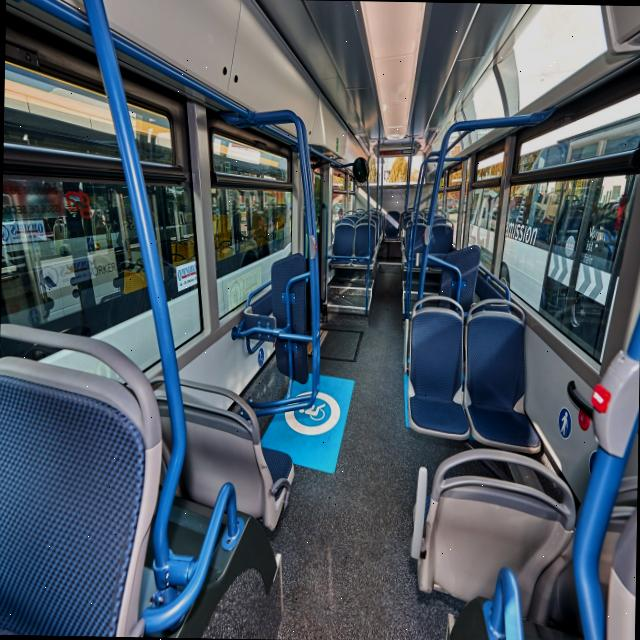empty-seat-frontal: (462, 294, 544, 452), (402, 293, 473, 441)
